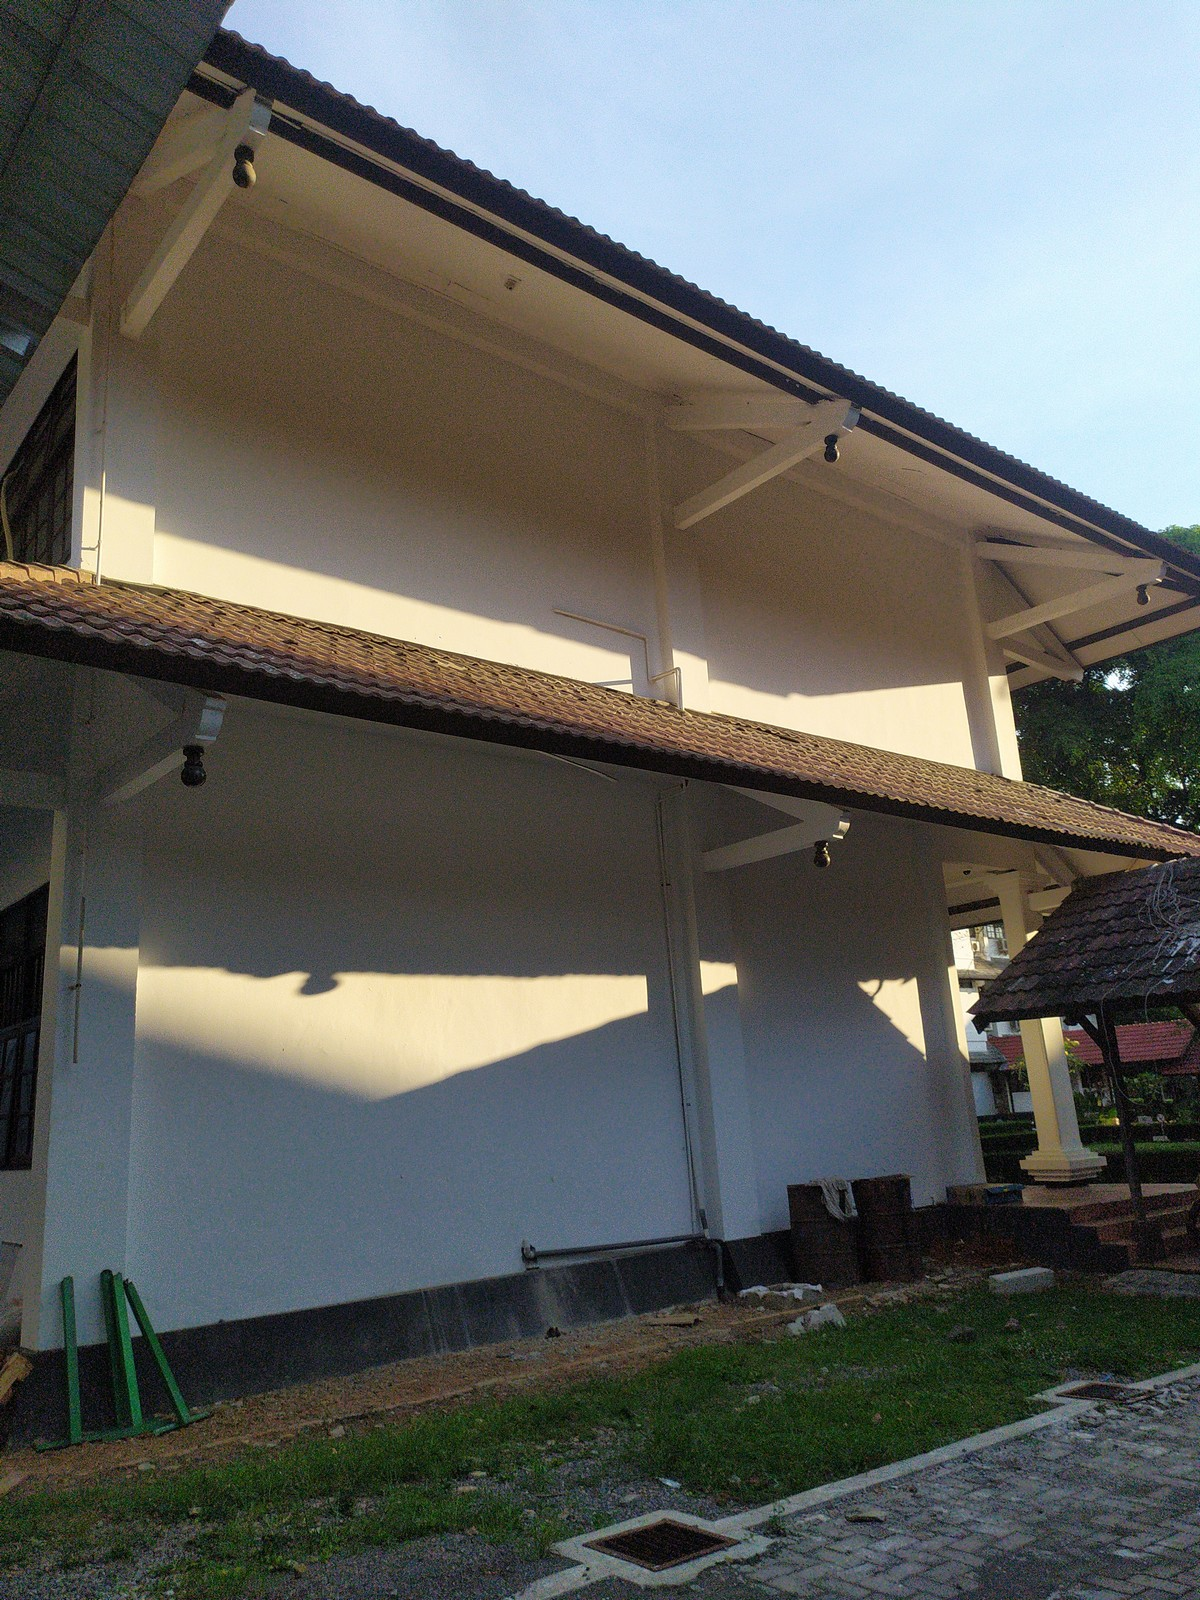concrete beam: (686, 829, 808, 882)
concrete column: (26, 669, 153, 1351), (658, 782, 782, 1264), (76, 170, 173, 582), (632, 384, 717, 707), (949, 527, 1037, 789)
